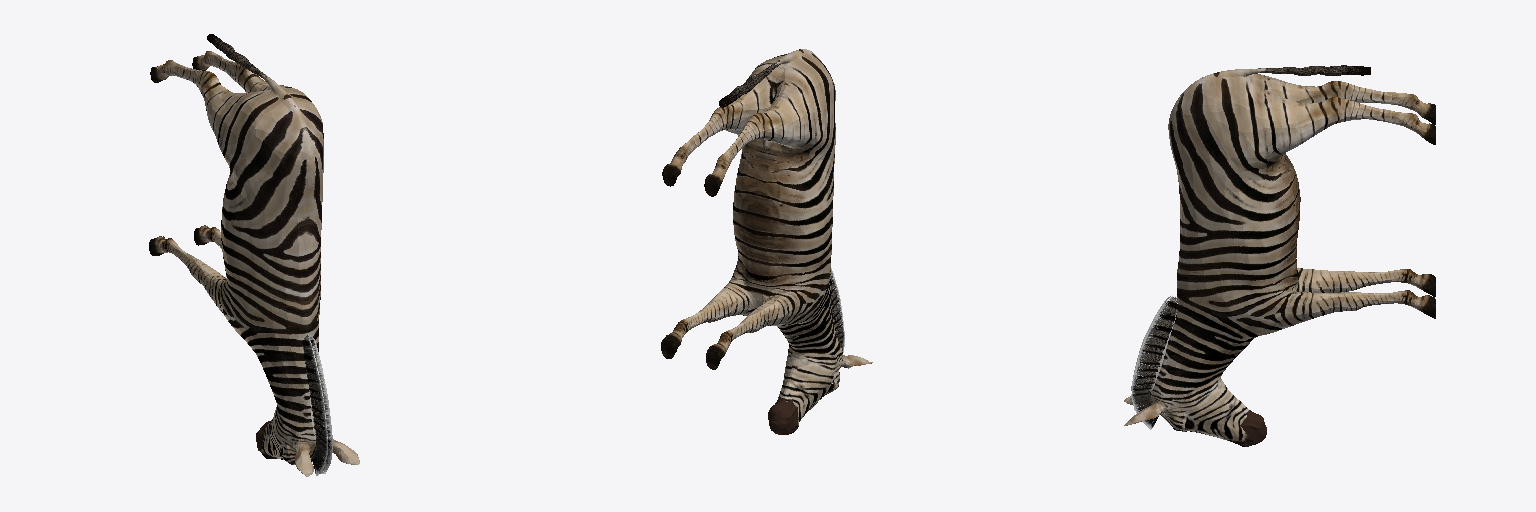
3 renders of one model, left to right at view 1: azimuth 30°, elevation 25°; view 2: azimuth 150°, elevation 25°; view 3: azimuth 270°, elevation 25°, orthographic.
Bounding box in the file's own units: 1527 × 6465 × 4806.
Materials: 4 (4 with a texture image).